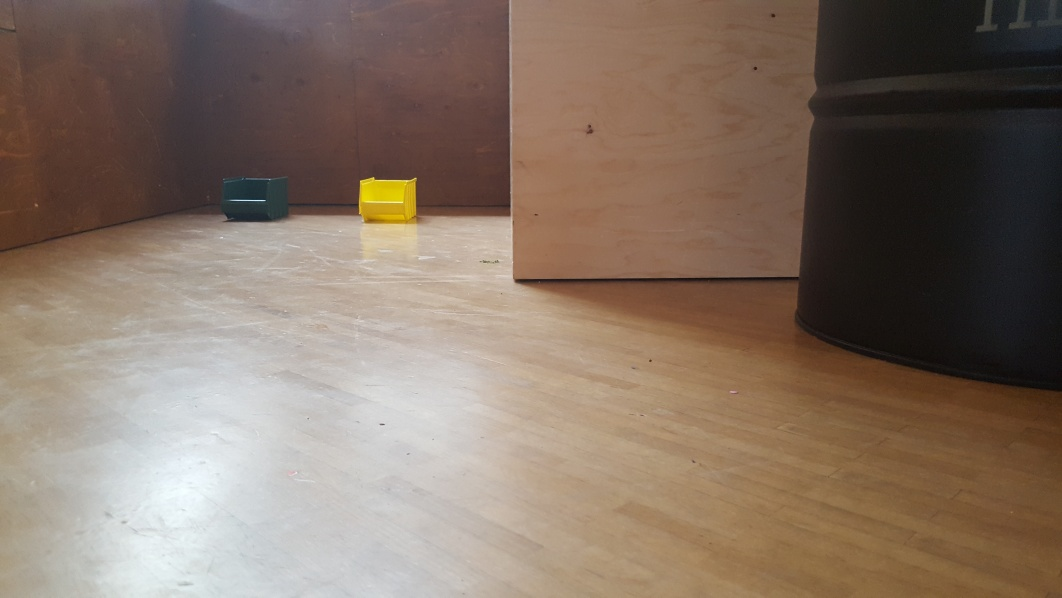tray: (219, 175, 291, 225), (355, 174, 417, 221)
